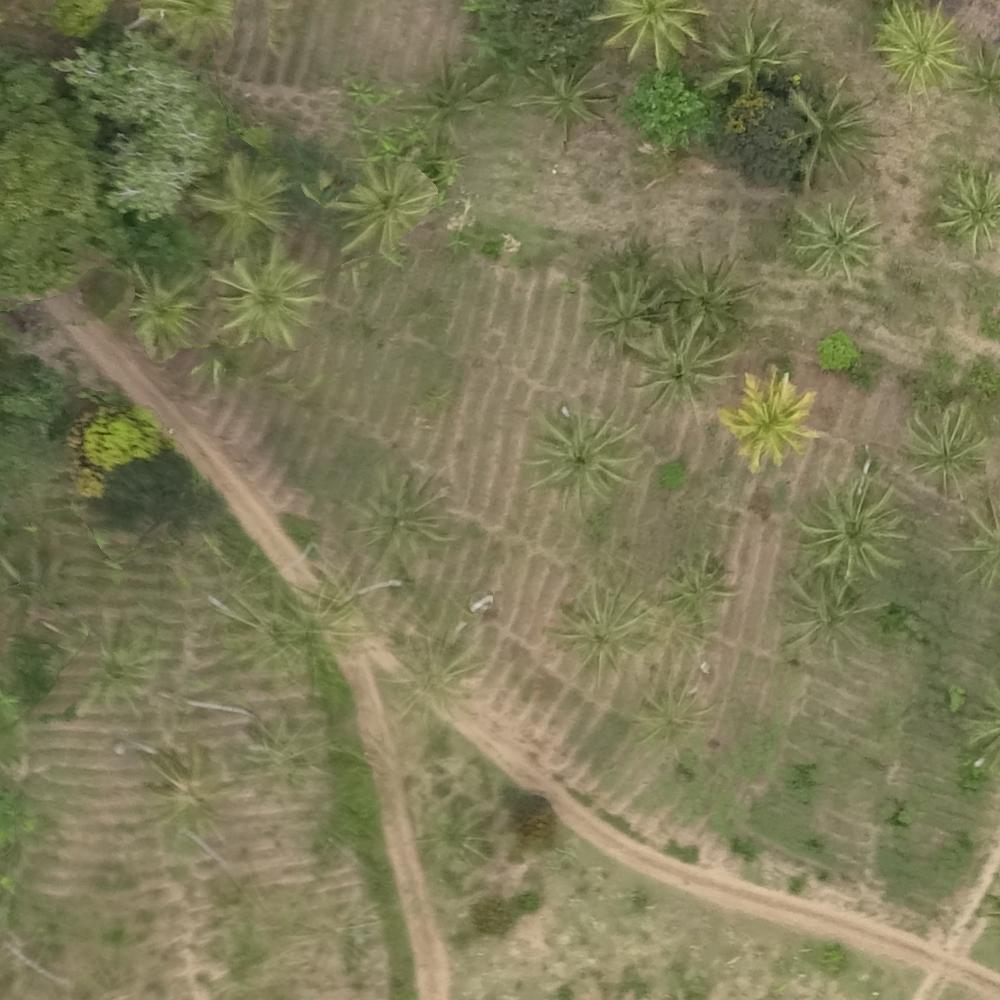Palm: (791, 477, 902, 577), (213, 248, 317, 350), (532, 404, 636, 502), (332, 161, 436, 258), (870, 1, 966, 102), (557, 582, 653, 680), (898, 401, 992, 494), (792, 78, 879, 177), (721, 376, 816, 466), (587, 1, 703, 74), (632, 322, 726, 411), (777, 575, 875, 659), (701, 11, 796, 96), (355, 469, 450, 554), (199, 152, 287, 240), (519, 57, 617, 132), (664, 252, 753, 334), (791, 198, 875, 283), (582, 269, 666, 349), (131, 268, 200, 344), (657, 559, 737, 623), (935, 167, 1000, 245)
